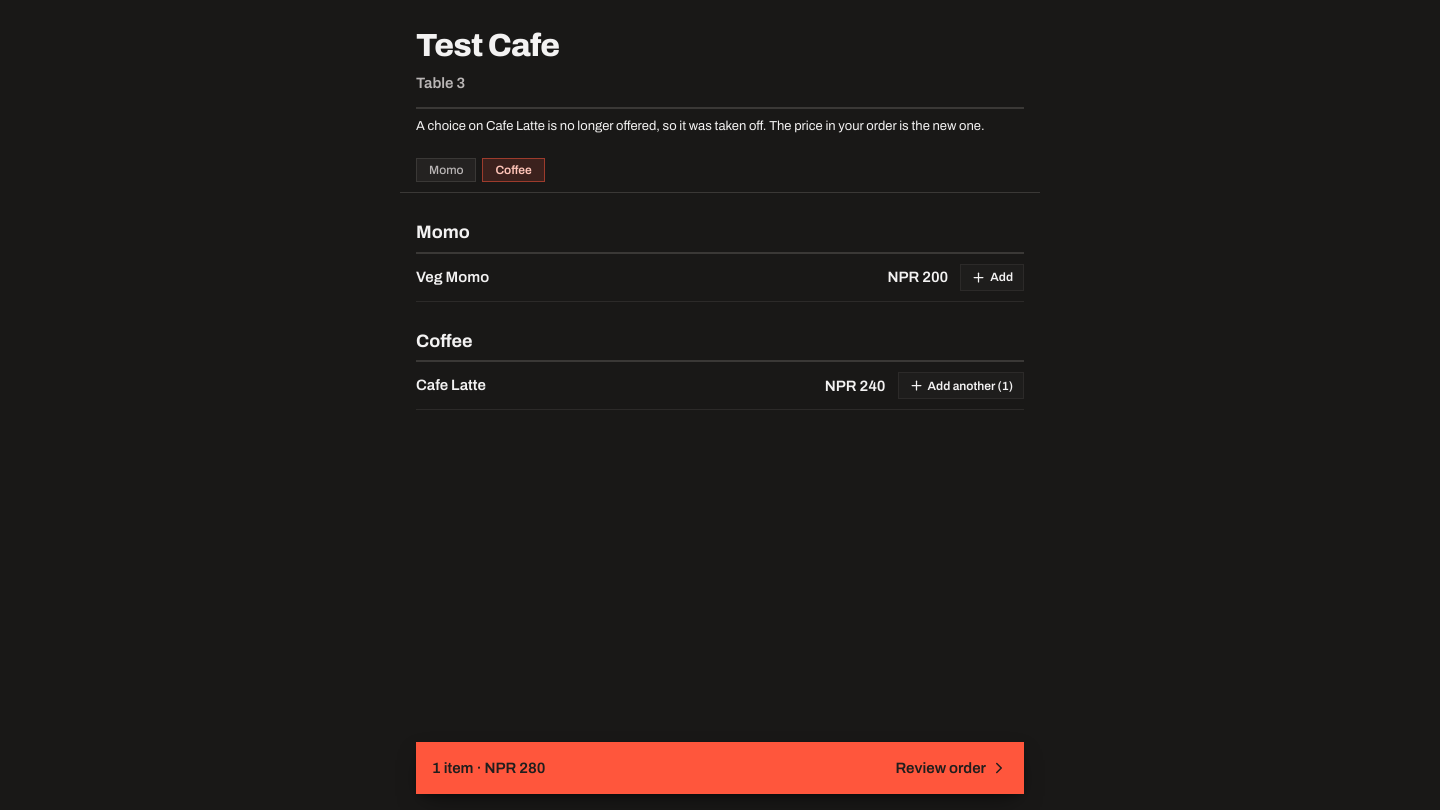
Test case: a cart checked against the choices just read › takes a hidden choice off a reloaded order, names the dish, and Change choices starts from what is left
Expected: the text "A choice on Cafe Latte is no longer offered, so it was taken off. The price in your order is the new one." is shown, [416, 119, 984, 133]
Click the button "1 item · NPR 280 Review order" at (515, 768), box [416, 742, 1024, 794]
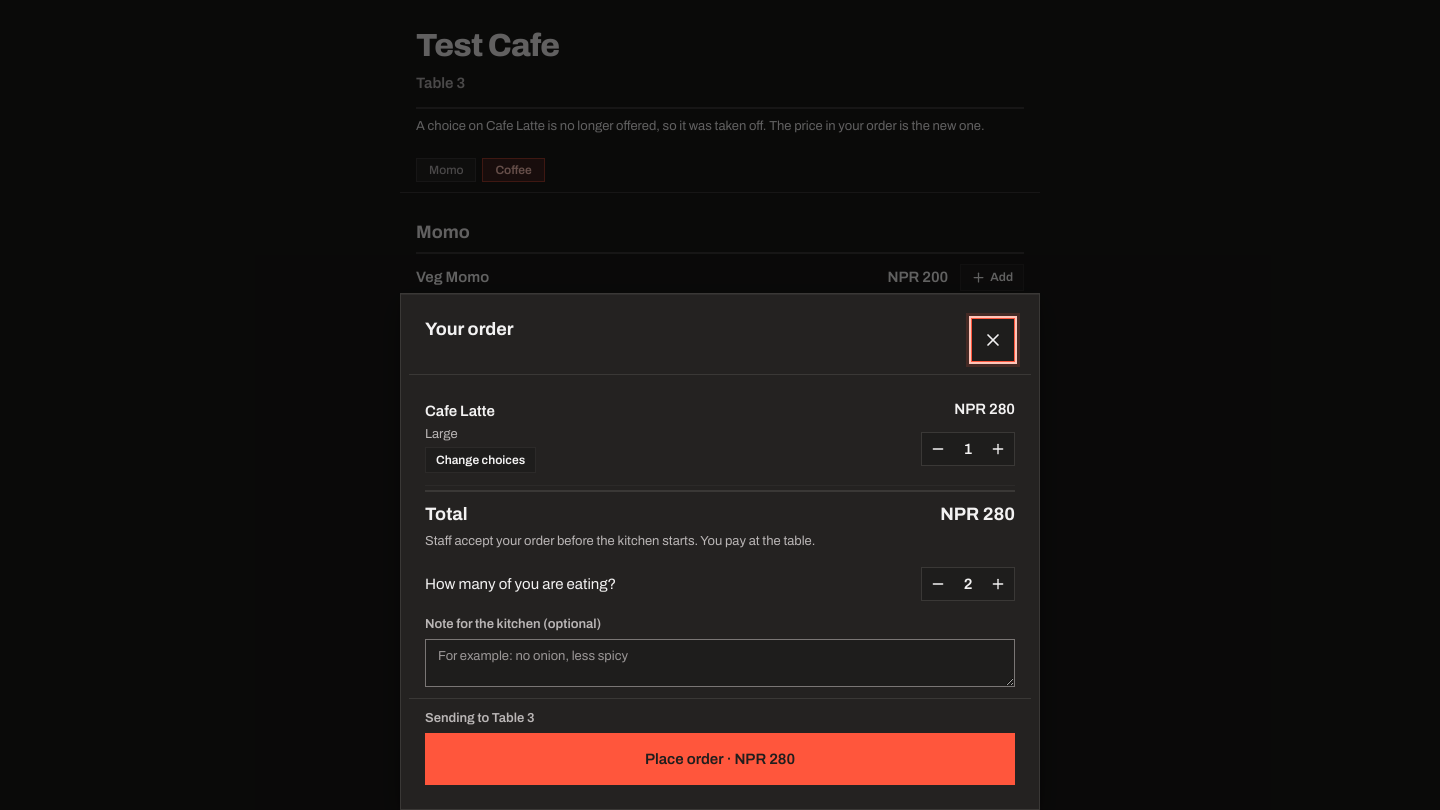
Click the button with aria-label "Change choices for Cafe Latte" at (481, 460), box [425, 447, 536, 473]
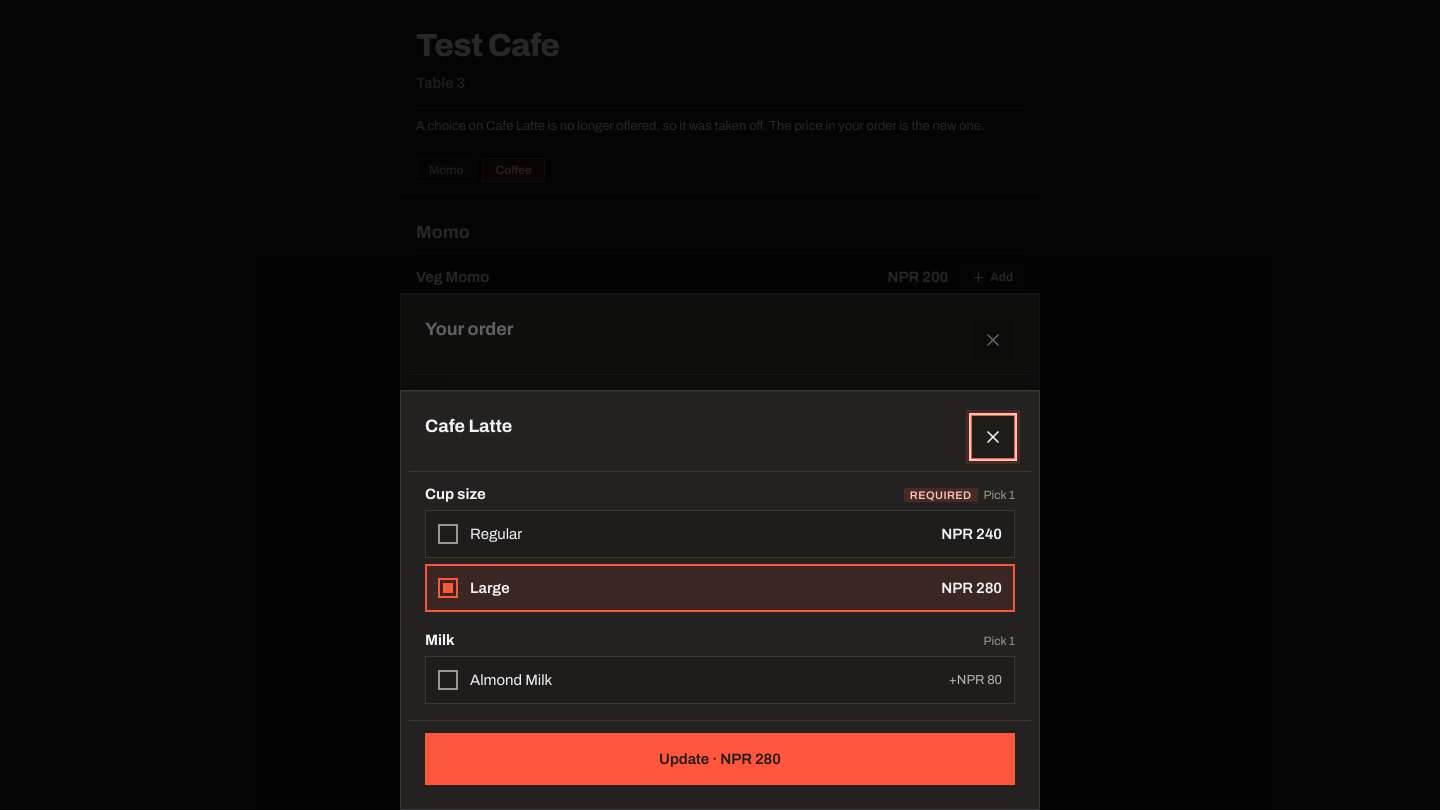
Result: the button "Update · NPR 280" is shown at [425, 733, 1015, 785]
